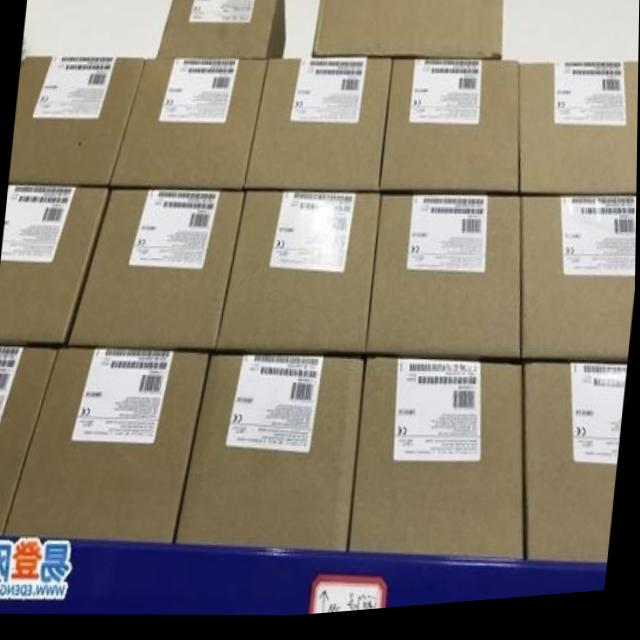box: (2, 346, 212, 542), (176, 356, 367, 555), (348, 361, 526, 568), (68, 189, 245, 354), (214, 192, 382, 361), (369, 200, 523, 370), (523, 371, 628, 569), (110, 61, 268, 192), (245, 63, 392, 199), (521, 204, 637, 374), (379, 65, 518, 204), (10, 55, 144, 188), (0, 185, 109, 348), (518, 72, 639, 205), (313, 0, 503, 67), (0, 343, 61, 536), (155, 0, 287, 62)
